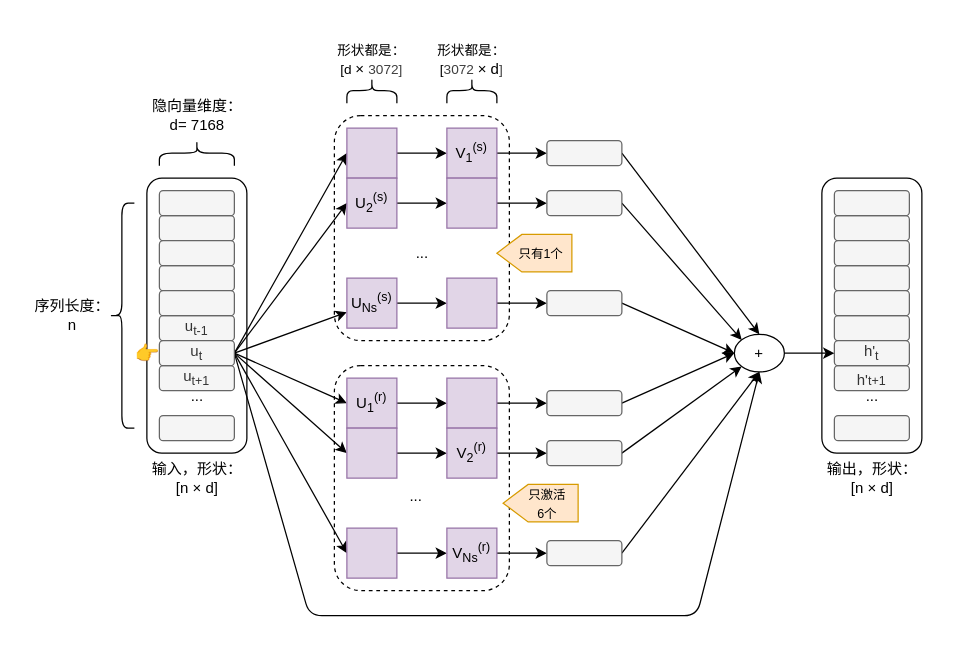
Image size: 955x648. Some labels were removed from this diagram. Here are the shapes that lost their labels. From the top down, the box of each, then its label:
(346, 127, 397, 178): U 1 (s)
(446, 177, 497, 228): V 2 (s)
(446, 277, 497, 328): V Ns (s)
(833, 314, 909, 341): h' t-1
(446, 377, 497, 428): V 1 (r)
(346, 427, 397, 478): U 2 (r)
(346, 527, 397, 578): U Ns (r)
